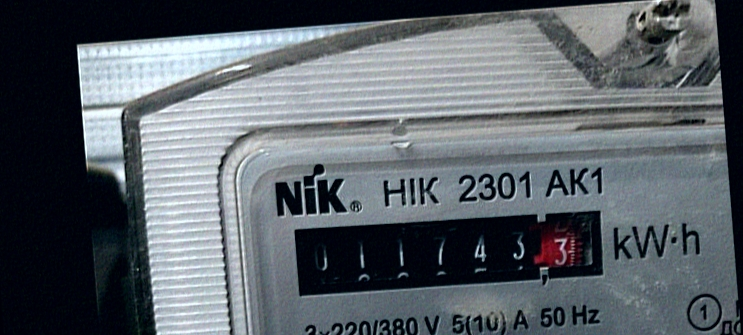0: (311, 237, 332, 275)
1: (393, 232, 411, 267), (357, 236, 369, 269)
3: (507, 226, 529, 263), (552, 235, 573, 269)
4: (470, 229, 490, 264)
7: (431, 231, 452, 266)
screen: (280, 192, 620, 312)
